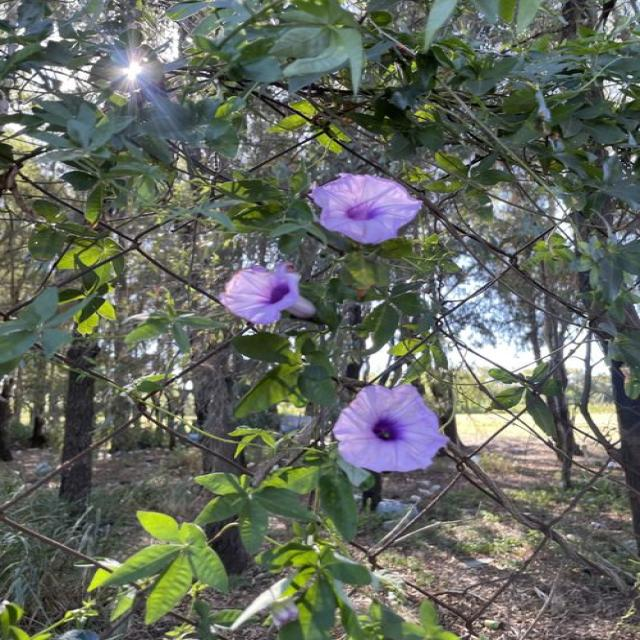ipomoea: (328, 382, 452, 476), (303, 171, 425, 248), (214, 260, 317, 329)
